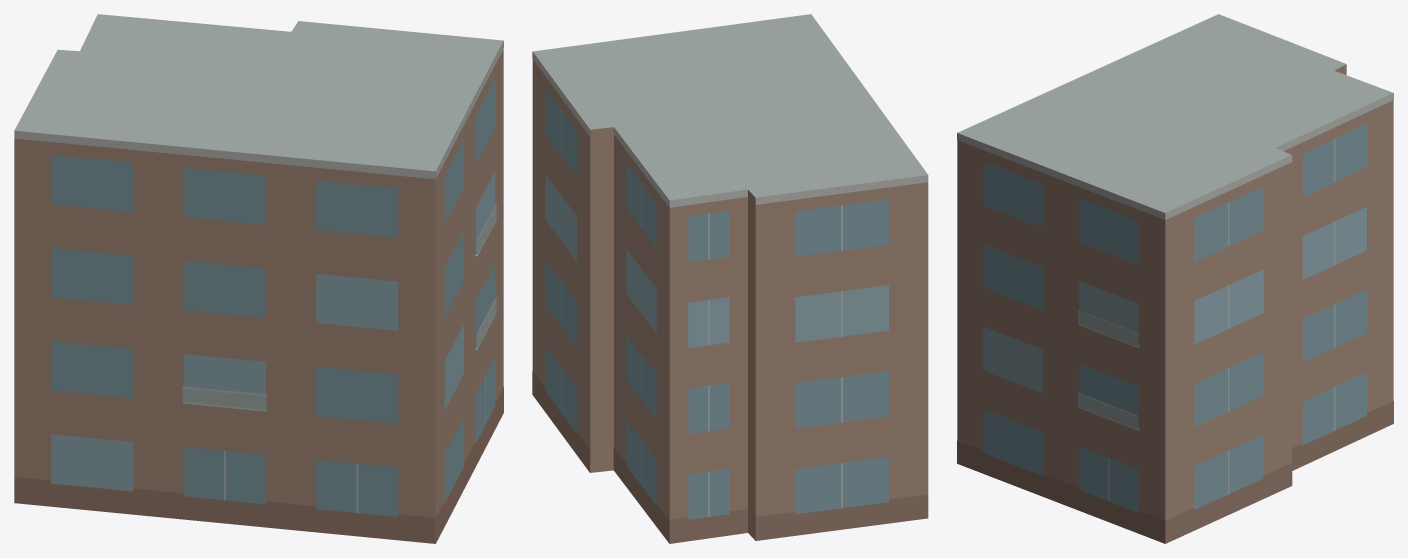
Rendered from survey-upis-32828659.glb.
3 views of the same model, side by side, from view 1: azimuth 30°, elevation 25°; view 2: azimuth 150°, elevation 25°; view 3: azimuth 270°, elevation 25° (orthographic). The views are drawn at different scales.
Parts seen in each view (by area): view 1: survey-upis-32828659.tmp; view 2: survey-upis-32828659.tmp; view 3: survey-upis-32828659.tmp.
Part boxes in pixels (<box>): survey-upis-32828659.tmp: <box>14,14,503,543</box>; survey-upis-32828659.tmp: <box>532,14,928,543</box>; survey-upis-32828659.tmp: <box>957,14,1393,543</box>.
Bounding box in the file's own units: 14.98 × 11.6 × 13.89.
